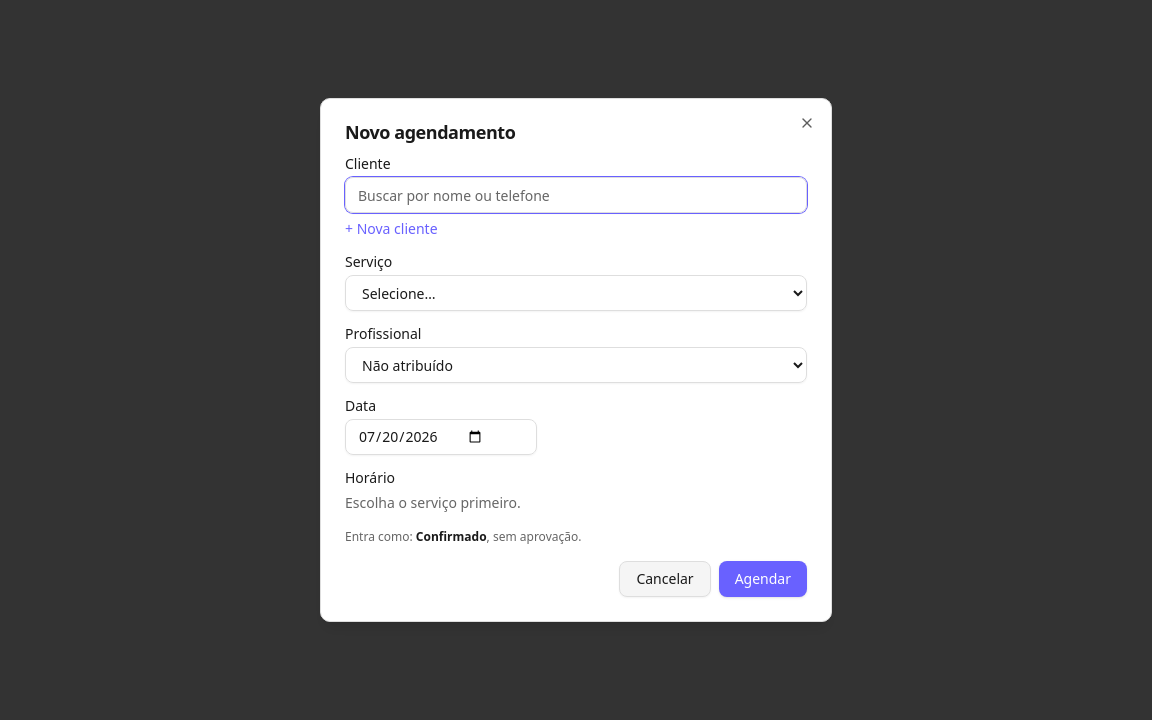
NovoAgendamento › com profissional escolhido, o aviso NOMEIA quem já está ocupado (dentro do expediente)
The width and height of the screenshot is (1152, 720).
Check: the heading "Novo agendamento" is shown, box x1=345 y1=120 x2=515 y2=144
Select "Corte" in the dropdown labelled "Serviço" at (576,293), box x1=345 y1=275 x2=807 y2=311
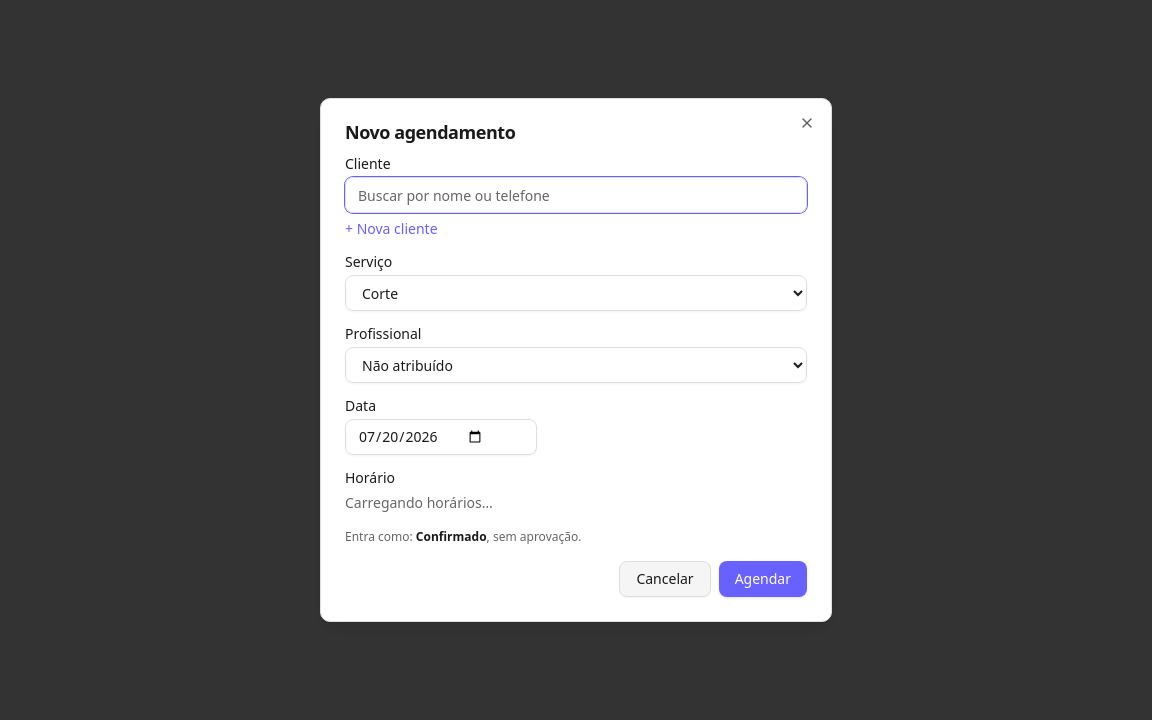
Select "Ana" in the dropdown labelled "Profissional" at (576,365), box x1=345 y1=347 x2=807 y2=383
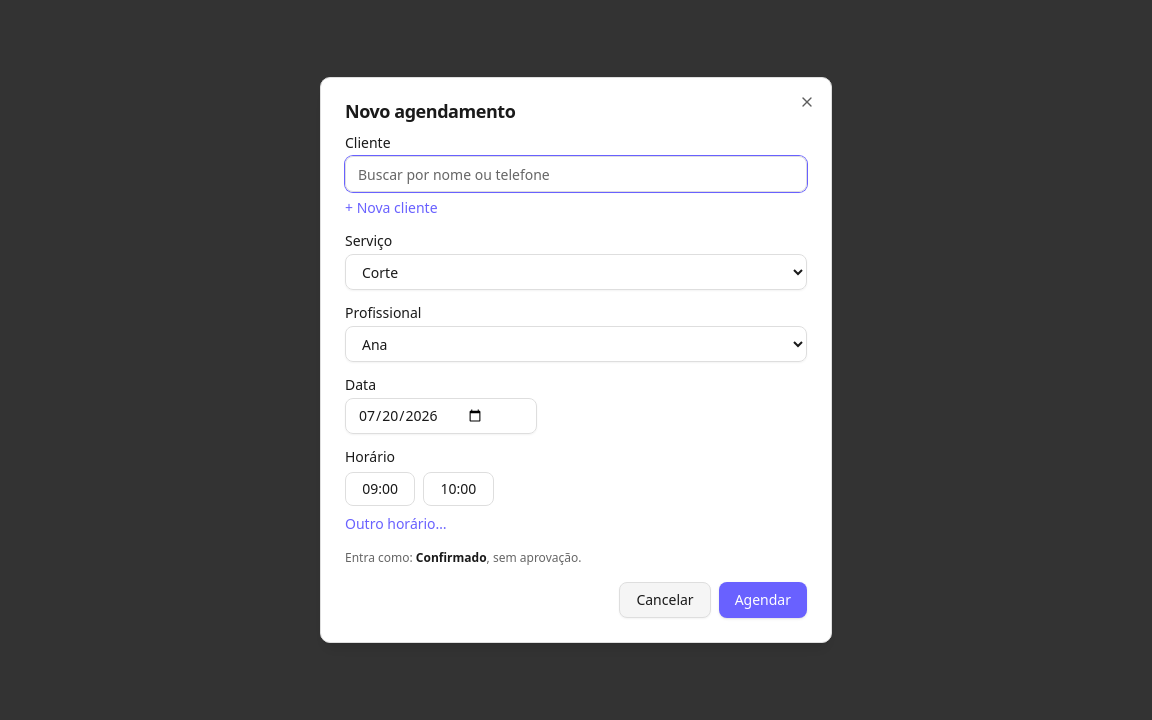
Check: the button "10:00" is shown, box x1=423 y1=472 x2=494 y2=506
Click the button "Outro horário…" at (396,524), box x1=345 y1=514 x2=447 y2=534
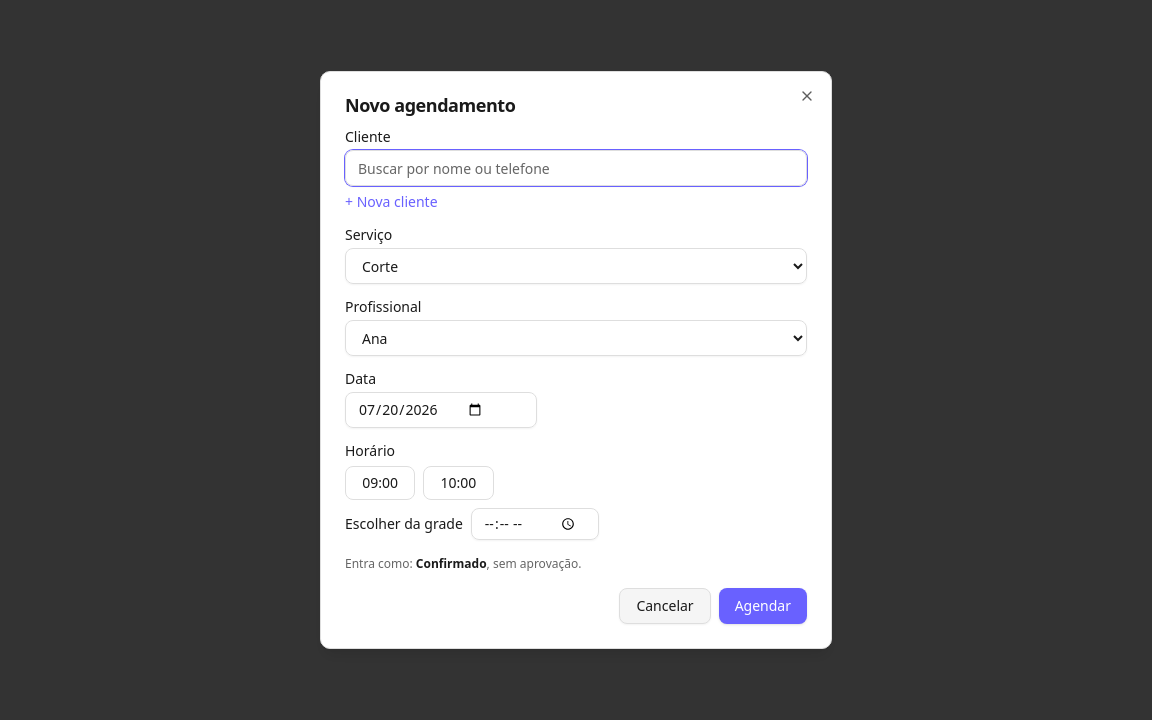
Type "09:30" into the time field named "Outro horário" at (535,524), box x1=471 y1=508 x2=599 y2=540
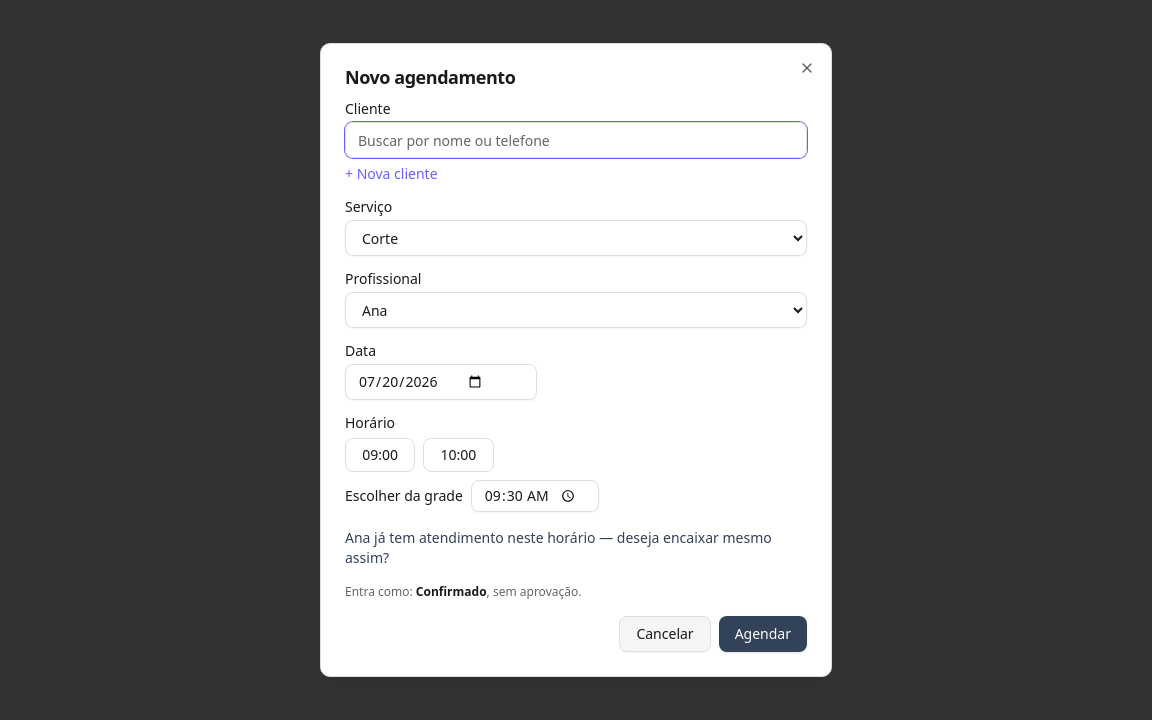
Check: the text "Ana já tem atendimento neste horário — deseja encaixar mesmo assim?" is shown, box x1=345 y1=528 x2=807 y2=568
